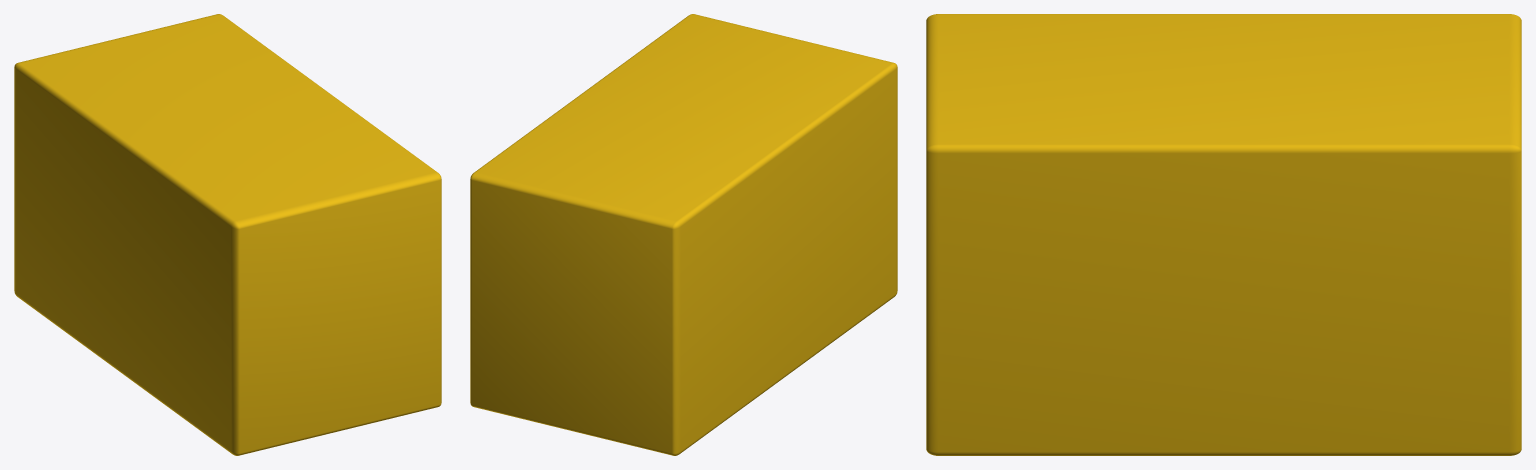
The model's file is YellowBoxSofa.fbx.
3 views of the same model, side by side, from view 1: azimuth 30°, elevation 25°; view 2: azimuth 150°, elevation 25°; view 3: azimuth 270°, elevation 25° (orthographic). The views are drawn at different scales.
Parts seen in each view (by area): view 1: Cube; view 2: Cube; view 3: Cube.
Boxes of the visible parts, left/top/right/bottom form: Cube: left=14, top=14, right=441, bottom=455; Cube: left=470, top=14, right=897, bottom=455; Cube: left=926, top=14, right=1521, bottom=455.
Size of the model in its own units: 224 by 240 by 416.
